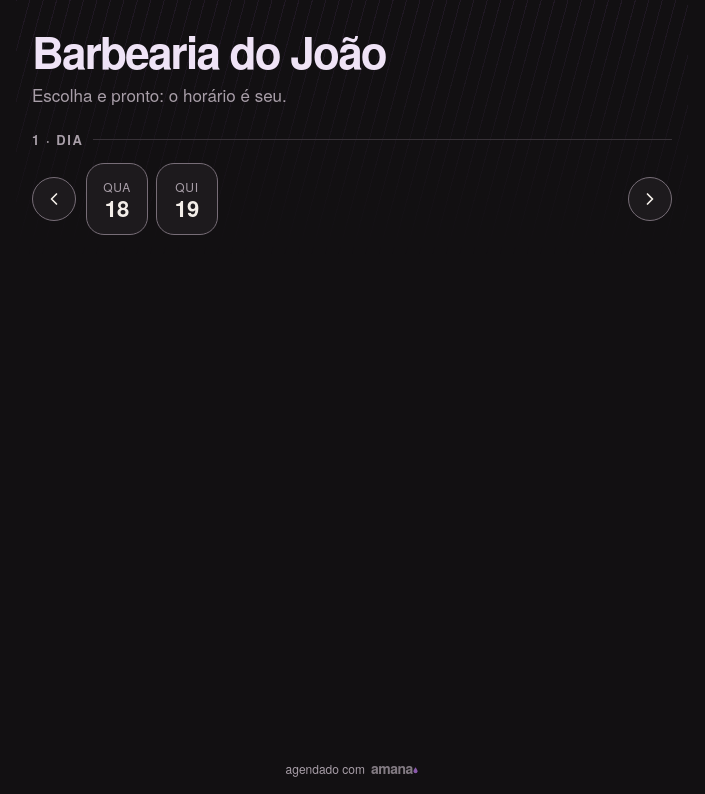
it: página pública de agendamento › mostra os dias com horário e, ao tocar no dia, os horários
Expected: the button "qui 19" is shown, [156, 163, 218, 235]
Click the button "qua 18": (117, 199) [86, 163, 148, 235]
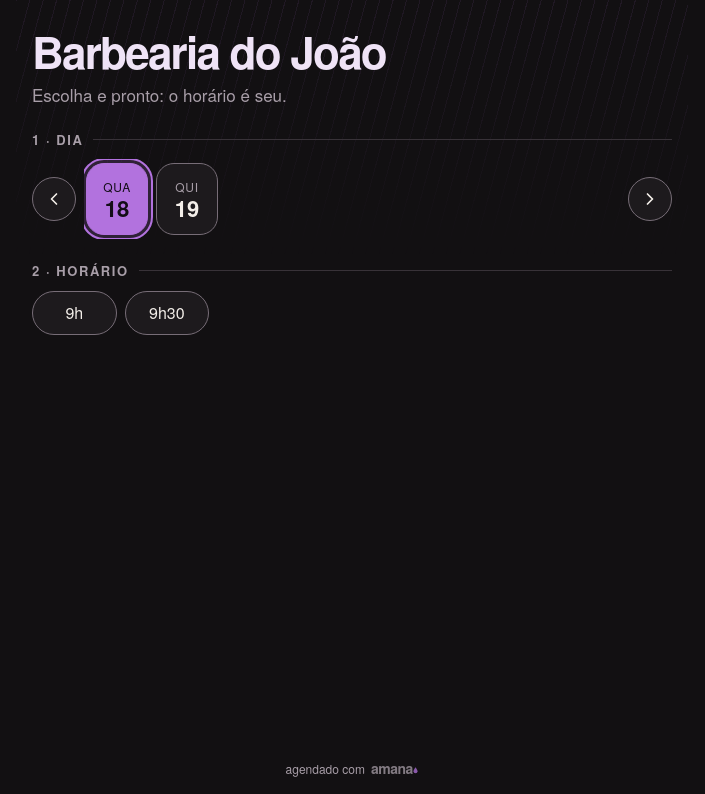
Expected: the button "9h" is shown, [32, 291, 117, 335]
Expected: the button "9h30" is shown, [125, 291, 209, 335]
